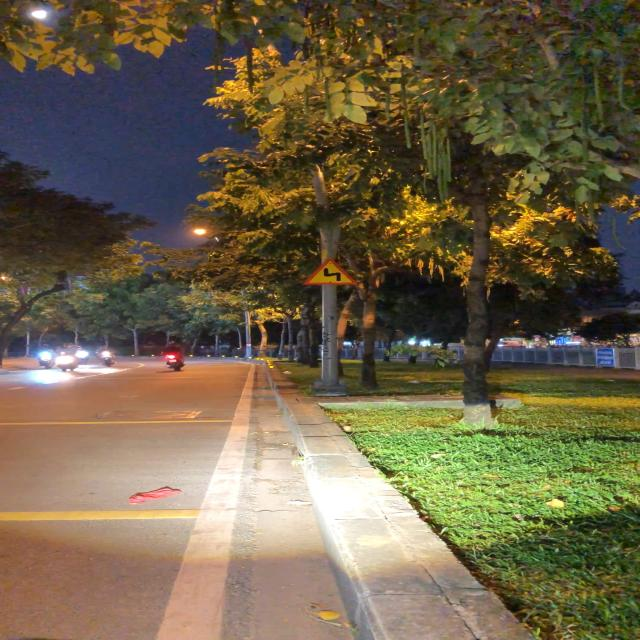Bien bao nhieu cho ngoat nguy hiem lien tiep: (300, 256, 362, 288)
